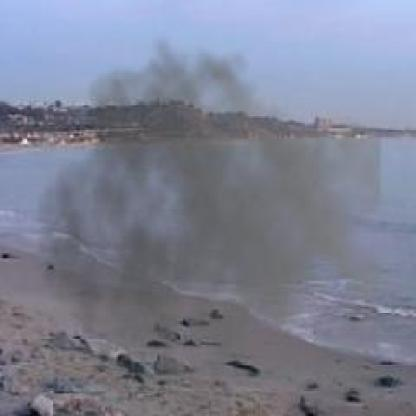Smoke: (35, 34, 381, 403)
